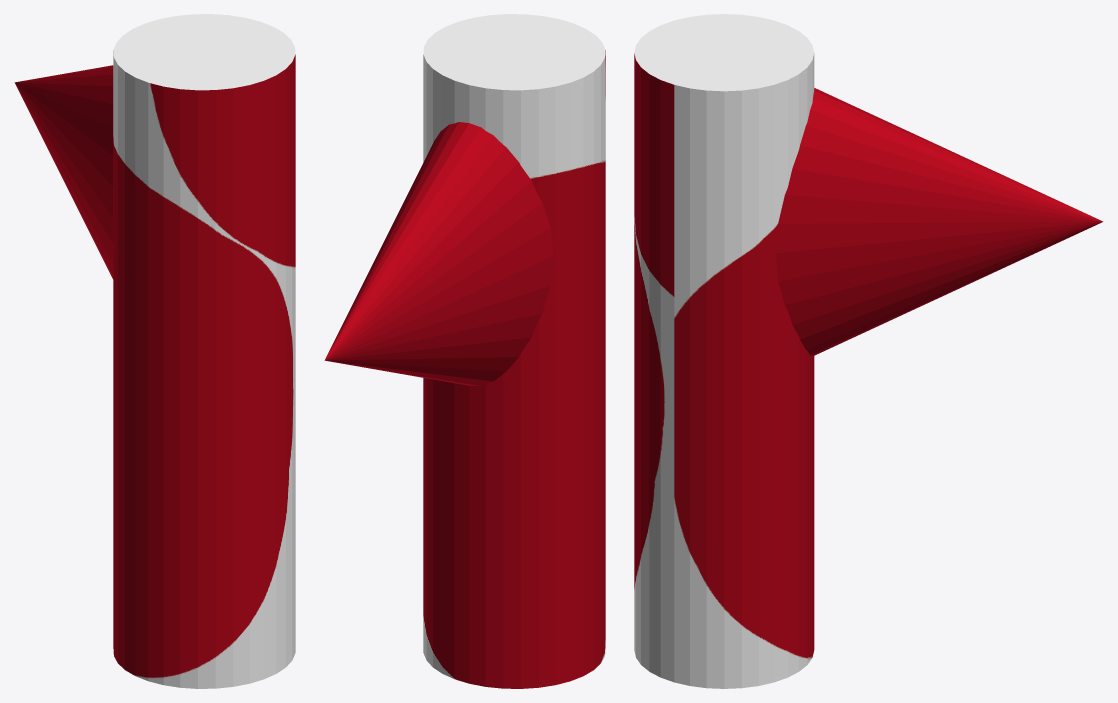
Rendered from goal.obj.
The picture shows the model from 3 angles, left to right: view 1: azimuth 30°, elevation 25°; view 2: azimuth 150°, elevation 25°; view 3: azimuth 270°, elevation 25°; orthographic projection.
Parts seen in each view (by area): view 1: 円柱; view 2: 円柱; view 3: 円柱.
Boxes of the visible parts, x1,y1,x2,y2 form: 円柱: (14,14,295,688); 円柱: (324,14,605,688); 円柱: (634,14,1103,688).
Size of the model in its own units: 0.5549 by 2 by 1.42.
